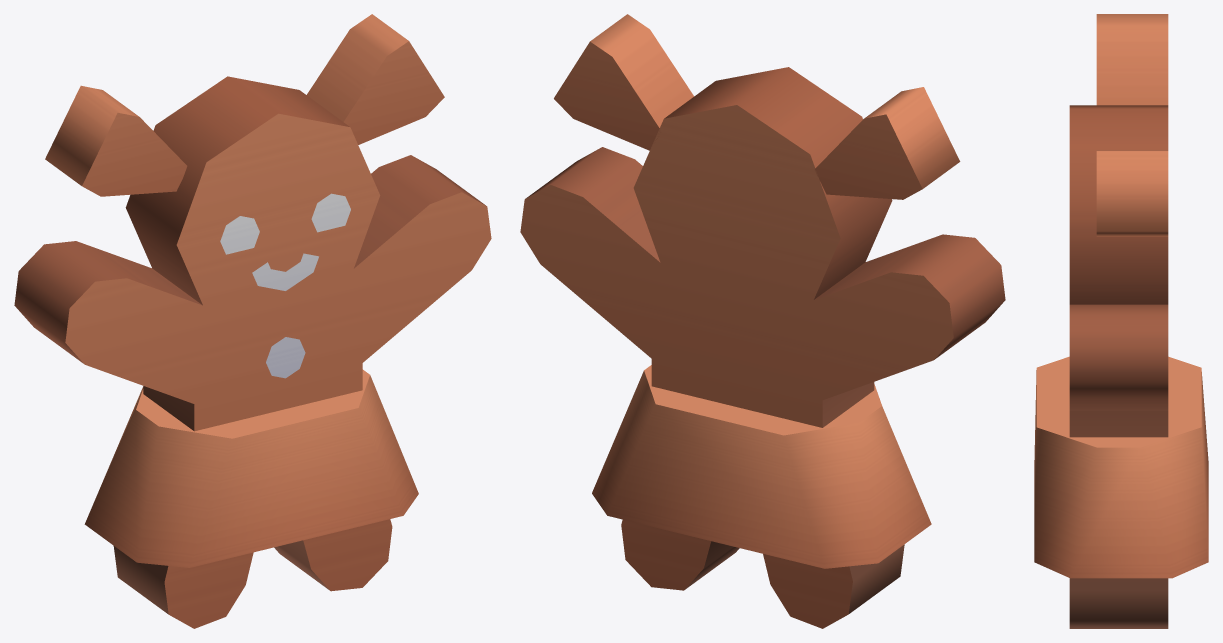
Rendered from gingerbread-woman.obj.
The picture shows the model from 3 angles, left to right: view 1: azimuth 30°, elevation 25°; view 2: azimuth 150°, elevation 25°; view 3: azimuth 270°, elevation 25°; orthographic projection. The views are drawn at different scales.
Parts seen in each view (by area): view 1: gingerbread-woman, Group; view 2: gingerbread-woman, Group; view 3: gingerbread-woman, Group.
Part boxes in pixels (x1,y1,x2,y2): gingerbread-woman: (14, 14, 491, 628); Group: (84, 369, 418, 567); gingerbread-woman: (520, 14, 1005, 628); Group: (592, 365, 931, 568); gingerbread-woman: (1069, 14, 1168, 628); Group: (1034, 356, 1208, 578).
Bounding box in the file's own units: 0.3393 × 0.397 × 0.1237.
1 material, 1 textured.
